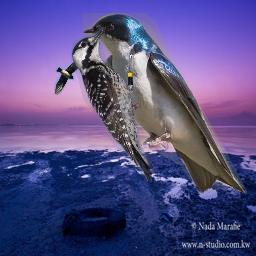Swallow: (82, 13, 247, 196), (54, 58, 81, 95)
Woodpecker: (71, 27, 152, 182)
